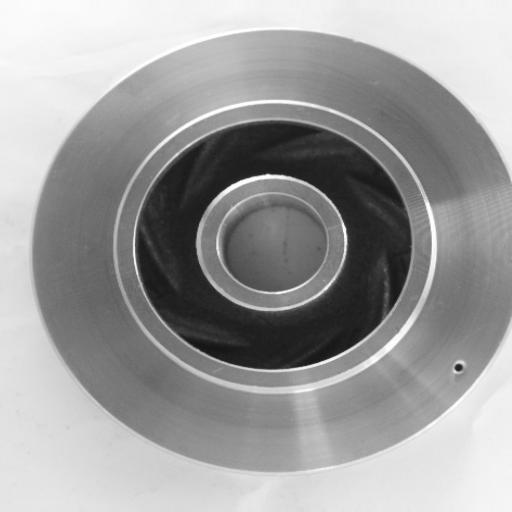pit: (445, 350, 472, 381)
unpolished_casting: (30, 29, 512, 474)
